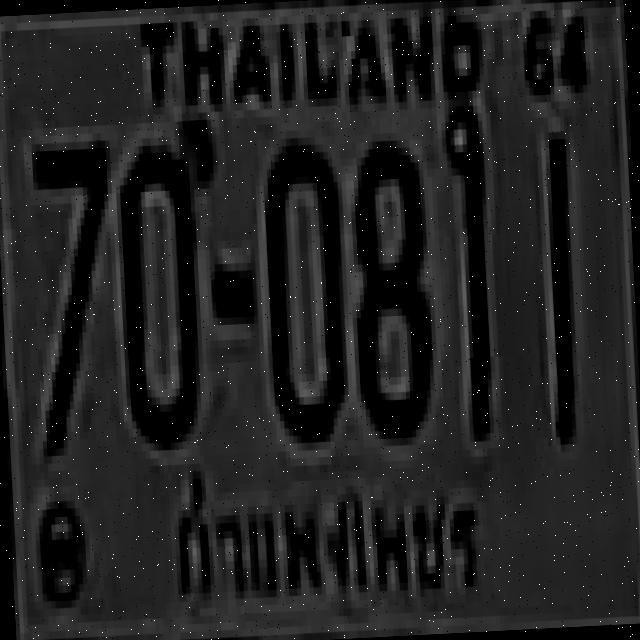0: (115, 136, 205, 444), (257, 133, 346, 433)
1: (444, 106, 494, 427), (448, 117, 497, 431), (540, 128, 577, 441)
7: (27, 133, 121, 449)
8: (343, 132, 432, 432)
KamphaengPhet: (153, 442, 491, 632)
